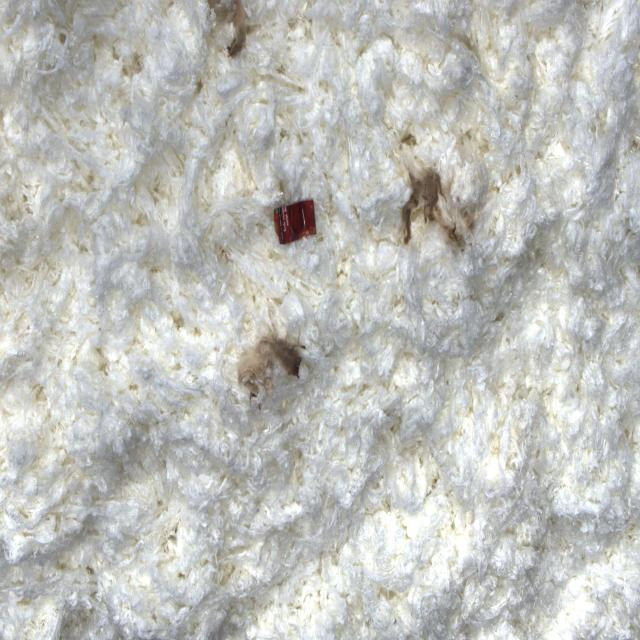dust: (391, 129, 467, 257), (230, 324, 306, 406), (197, 0, 262, 73), (272, 190, 318, 252)
